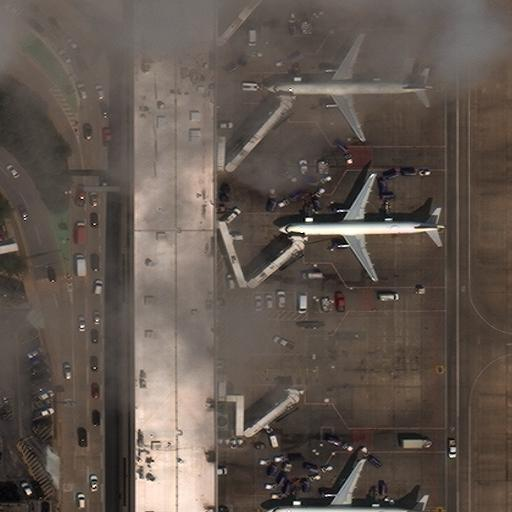Medium Civil Transport: (262, 34, 436, 141), (276, 175, 447, 280), (263, 460, 432, 512)
